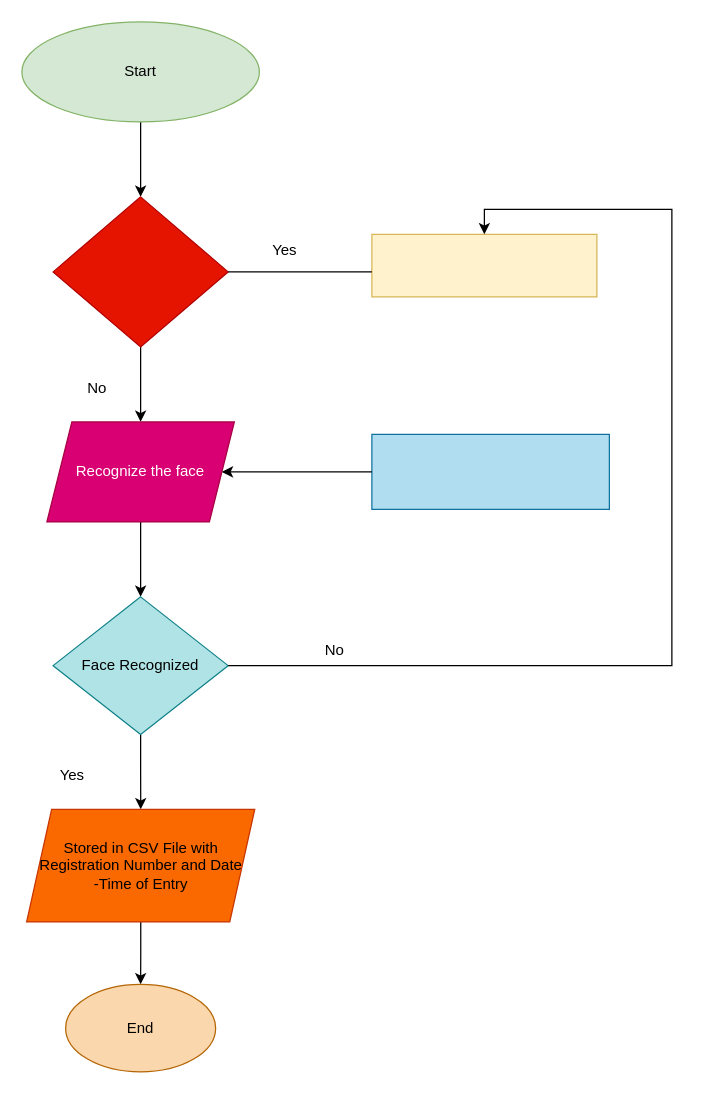
Some shapes in this 704 by 1094 pixel diagram are drawn without their labels. The box of each missing label's shape, as (x1, y1, x2, y2) in pixels:
Give Your Photograph: (371, 233, 597, 297)
New user? run create datasets: (52, 196, 228, 347)
Store the face data in folder on your name: (371, 433, 609, 509)
